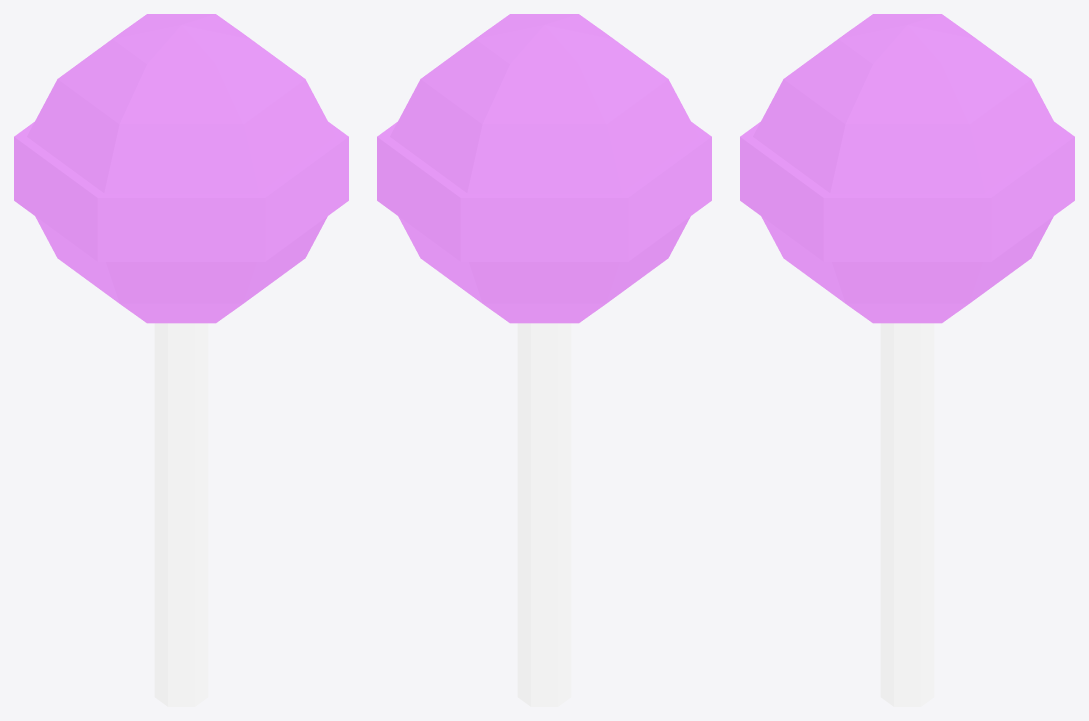
The model's file is 010_stickCandy.gltf.
The picture shows the model from 3 angles, left to right: view 1: azimuth 30°, elevation 25°; view 2: azimuth 150°, elevation 25°; view 3: azimuth 270°, elevation 25°; orthographic projection.
Visible parts, largest first — view 1: Cube; view 2: Cube; view 3: Cube.
Part boxes in pixels (x1,y1,x2,y2): Cube: (14,14,348,706); Cube: (377,14,711,706); Cube: (740,14,1074,706).
Size of the model in its own units: 1.83 by 4.71 by 2.11.
